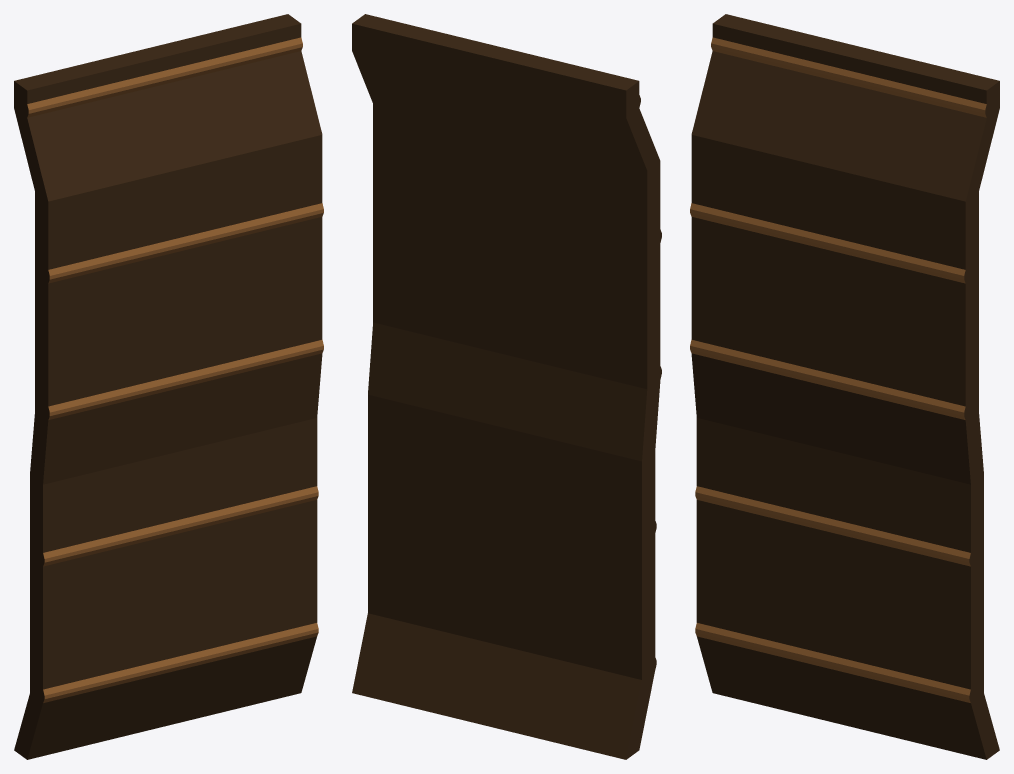
File: lateralCurva.fbx
The picture shows the model from 3 angles, left to right: view 1: azimuth 30°, elevation 25°; view 2: azimuth 150°, elevation 25°; view 3: azimuth 330°, elevation 25°; orthographic projection.
Visible parts, largest first — view 1: Cube.065; view 2: Cube.065; view 3: Cube.065.
Boxes of the visible parts, x1,y1,x2,y2 form: Cube.065: (14,14,323,759); Cube.065: (352,14,661,759); Cube.065: (690,14,999,759).
Bounding box in the file's own units: 300 × 700 × 67.8.
